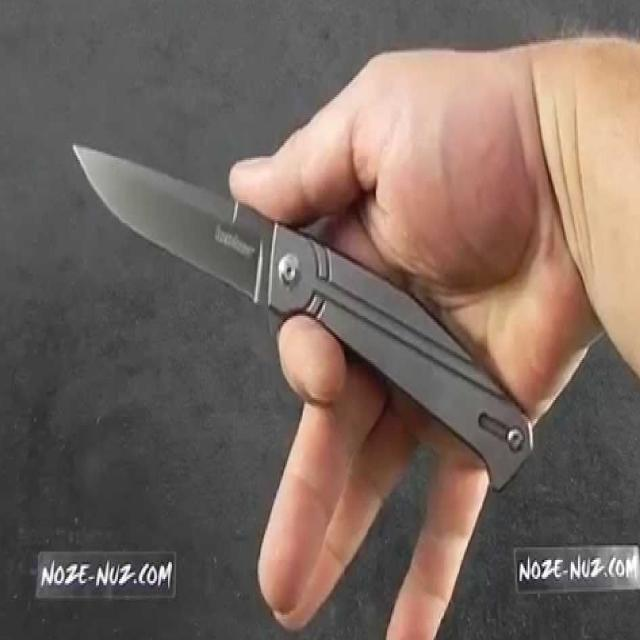knife: (73, 132, 539, 503)
